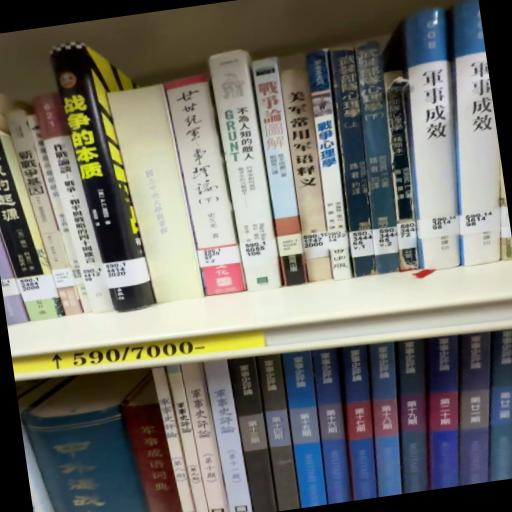backward: (108, 84, 204, 302)
book: (52, 48, 158, 319), (102, 78, 202, 306), (209, 46, 284, 290), (167, 70, 248, 294), (18, 96, 82, 316), (201, 358, 254, 512), (229, 357, 280, 512), (121, 396, 185, 512)
